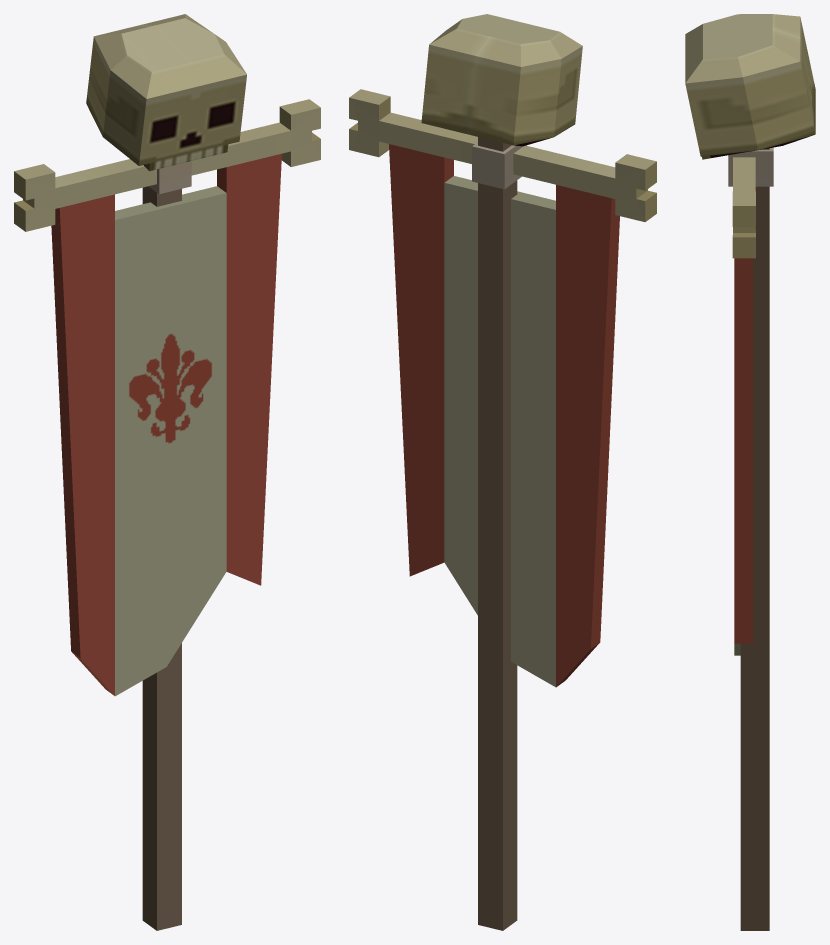
Rendered from Flag2.gltf.
The picture shows the model from 3 angles, left to right: view 1: azimuth 30°, elevation 25°; view 2: azimuth 150°, elevation 25°; view 3: azimuth 270°, elevation 25°; orthographic projection.
Visible parts, largest first — view 1: SF_Prop_Flag_012; view 2: SF_Prop_Flag_012; view 3: SF_Prop_Flag_012.
Boxes of the visible parts, box(x1,y1,x2,y2) form: SF_Prop_Flag_012: box(14, 14, 320, 930); SF_Prop_Flag_012: box(349, 14, 656, 930); SF_Prop_Flag_012: box(685, 14, 815, 930).
Bounding box in the file's own units: 0.0157 × 0.0452 × 0.00596.
1 material, 1 textured.
